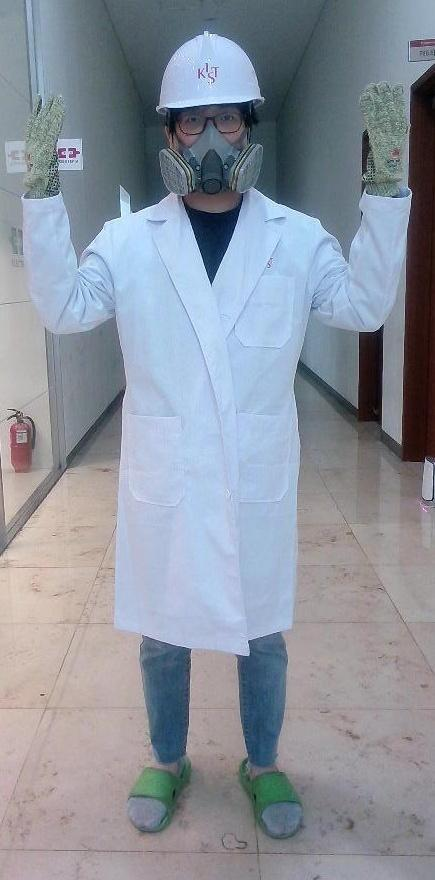lab_coat: (88, 197, 327, 645)
